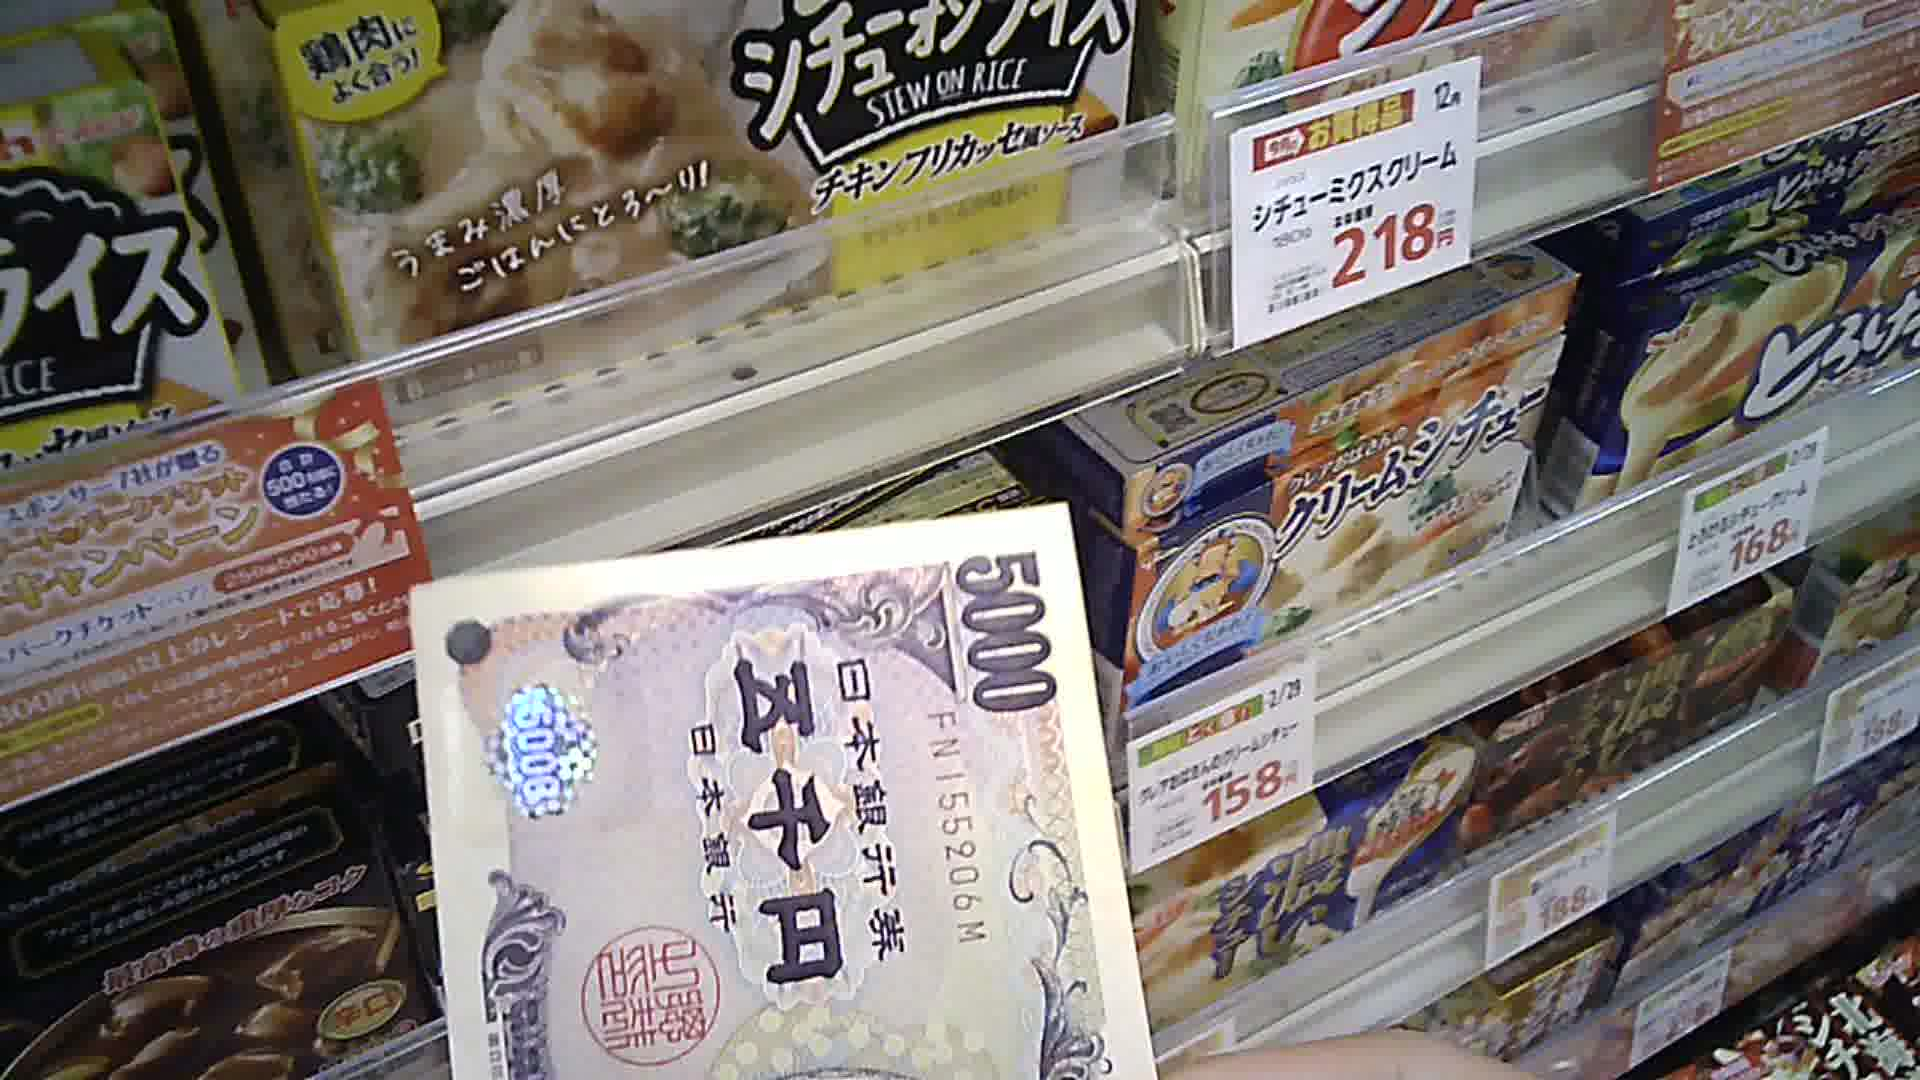5,000 Yen: (402, 520, 1145, 1079)
